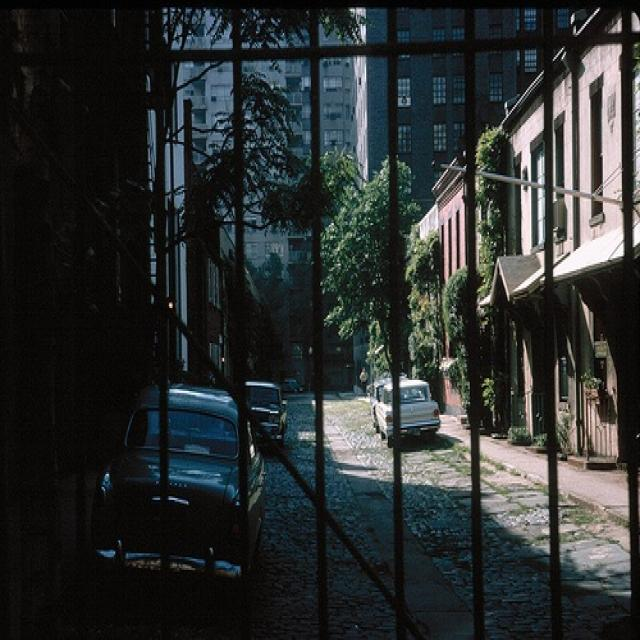Car: (126, 384, 252, 582), (358, 362, 459, 449), (230, 348, 310, 446)
